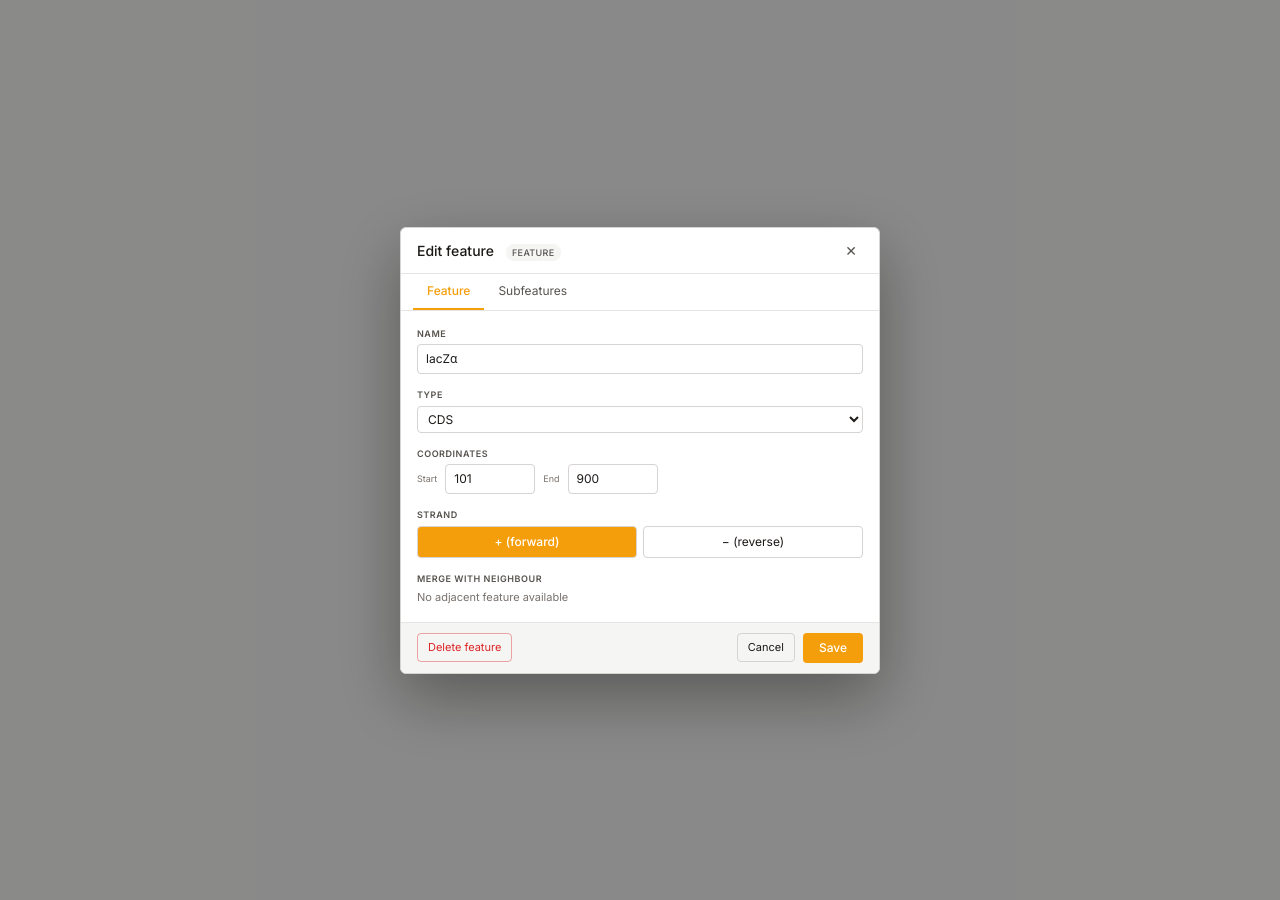
Scenario: FeatureEditorModal — Split sub-features / Merge / Delete › Split button creates two sub-feature rows (parent halves)
This screenshot has width=1280, height=900.
Click the button with test id "feature-editor-tab-subfeatures".
click(533, 292)  # box [484, 274, 581, 310]
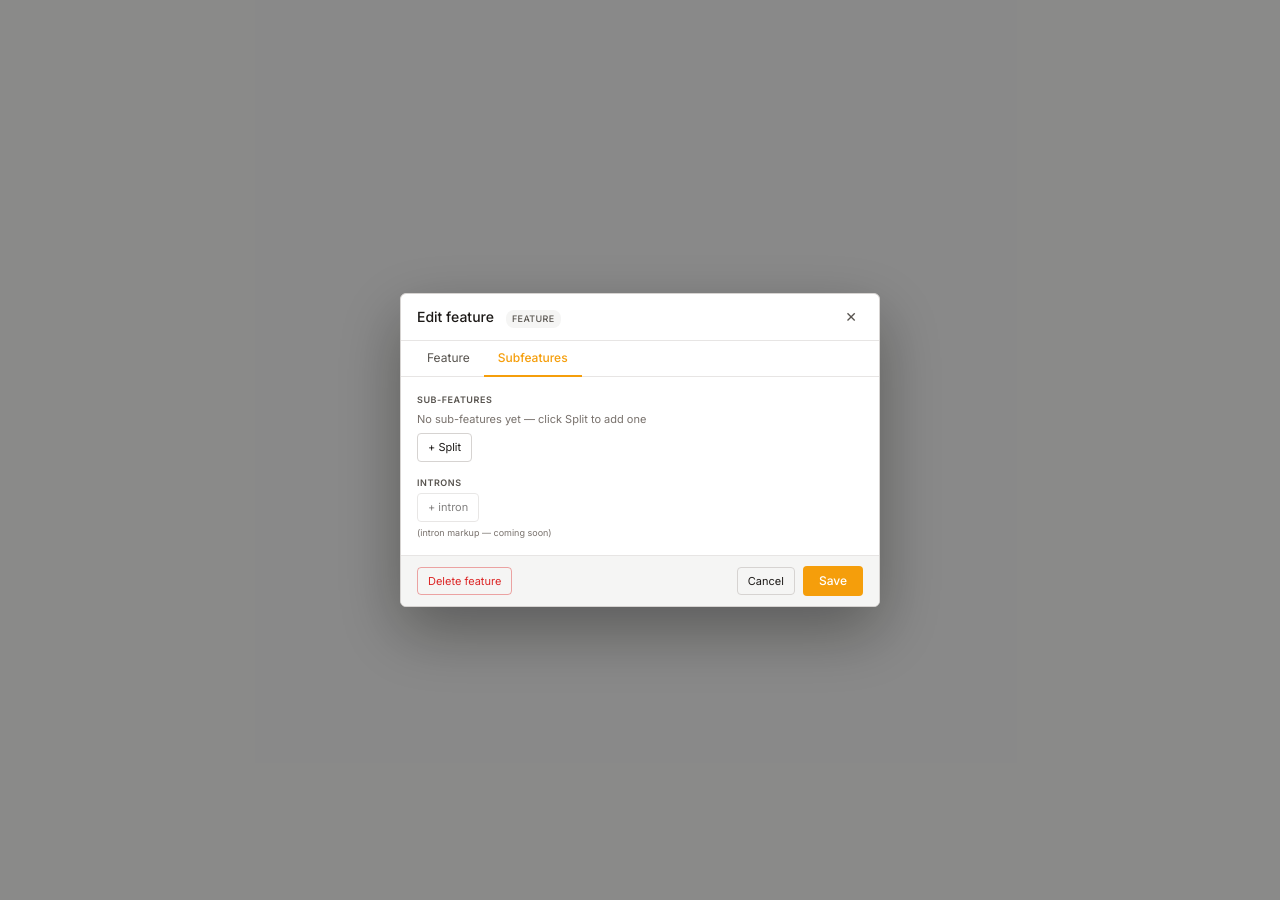
Click the button with test id "feature-editor-split".
click(445, 447)  # box [417, 433, 472, 462]
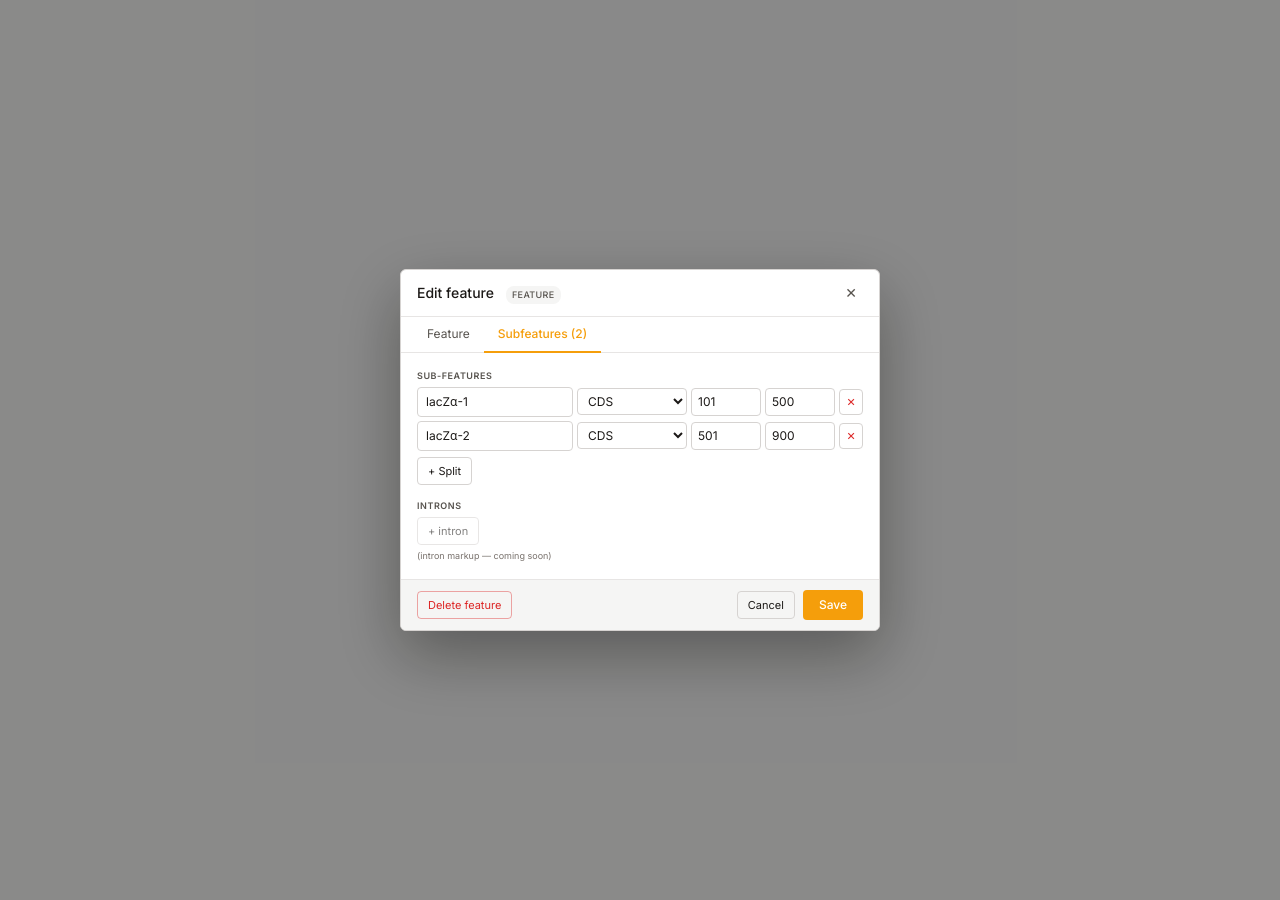
expect the number of elements with test id "feature-editor-subfeature-row" is 2: met, box [417, 387, 863, 417]; [417, 421, 863, 451]
